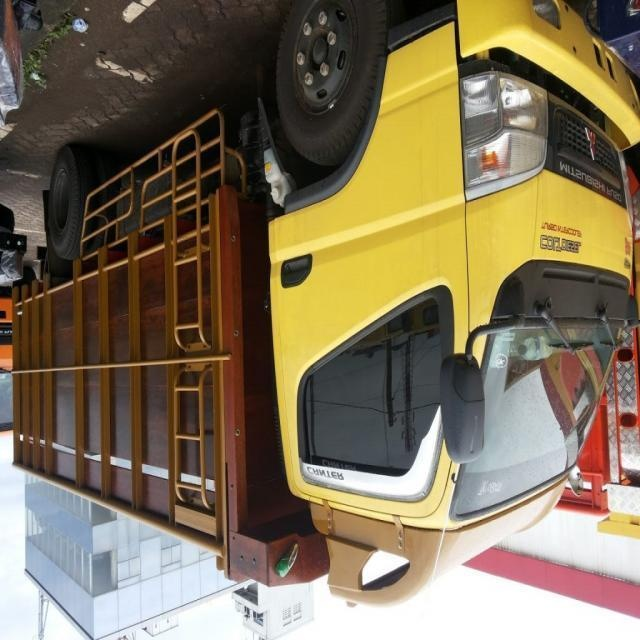Truck: (12, 1, 640, 605)
